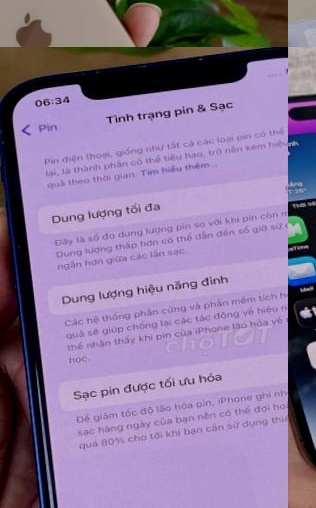scratch: (52, 47, 258, 92)
